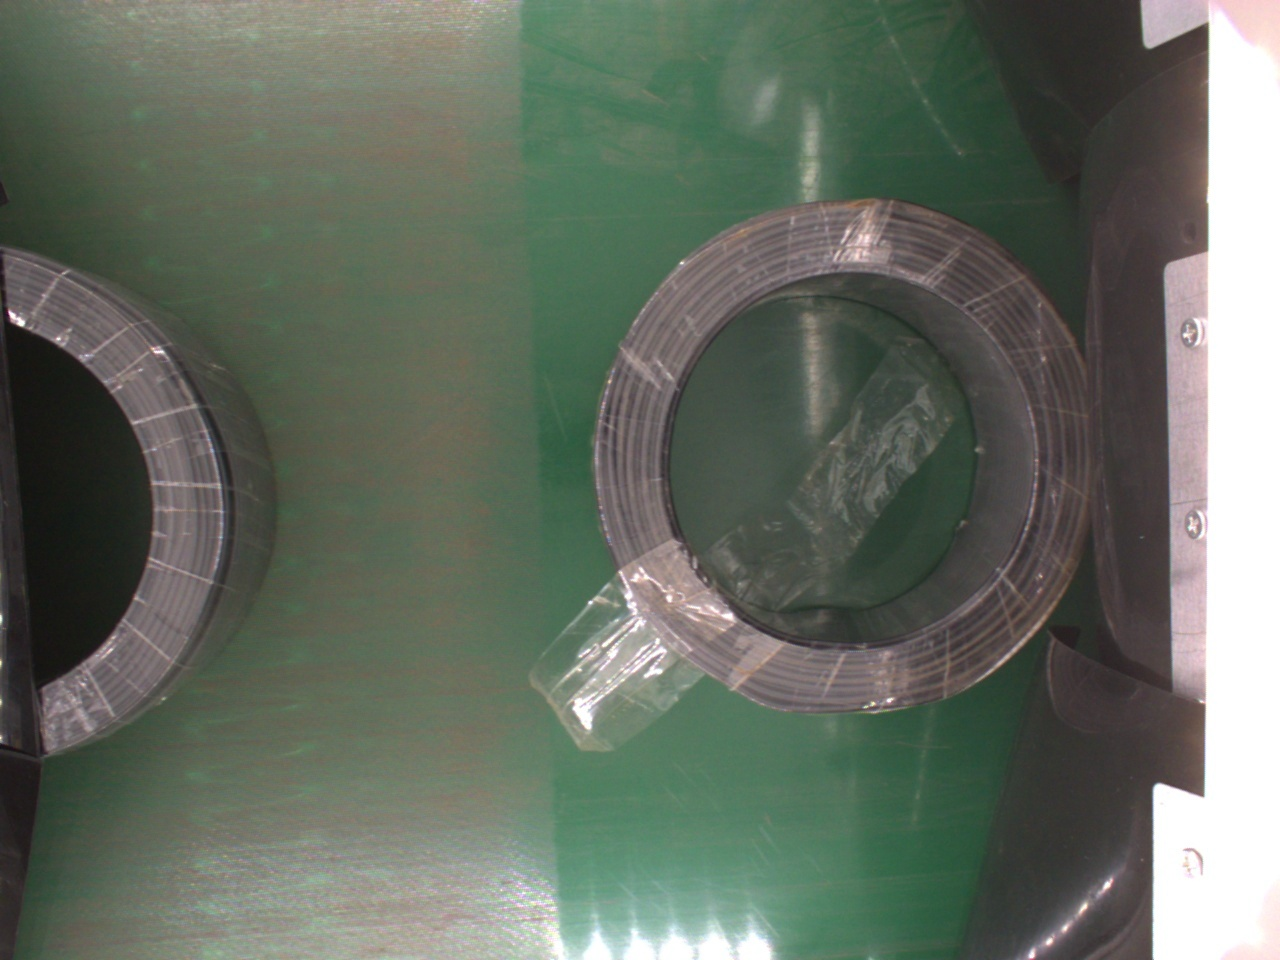black: (586, 196, 1089, 714), (10, 245, 284, 767)
